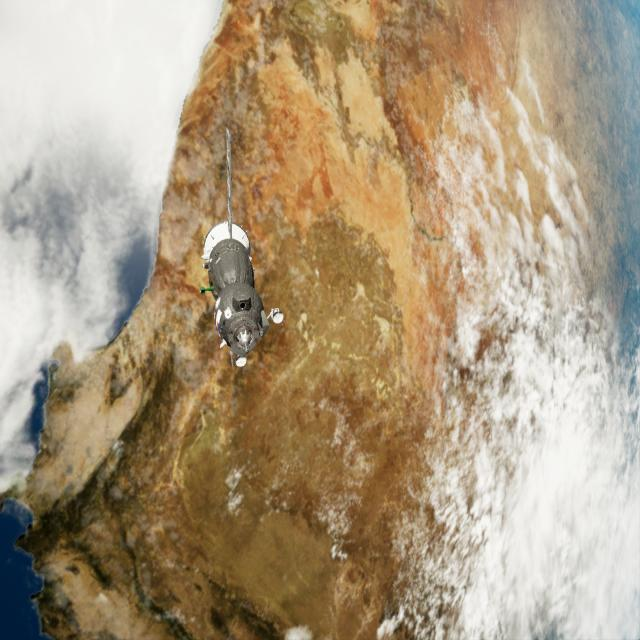Satellites revolving around earth: (3, 1, 637, 638), (197, 126, 285, 371)
